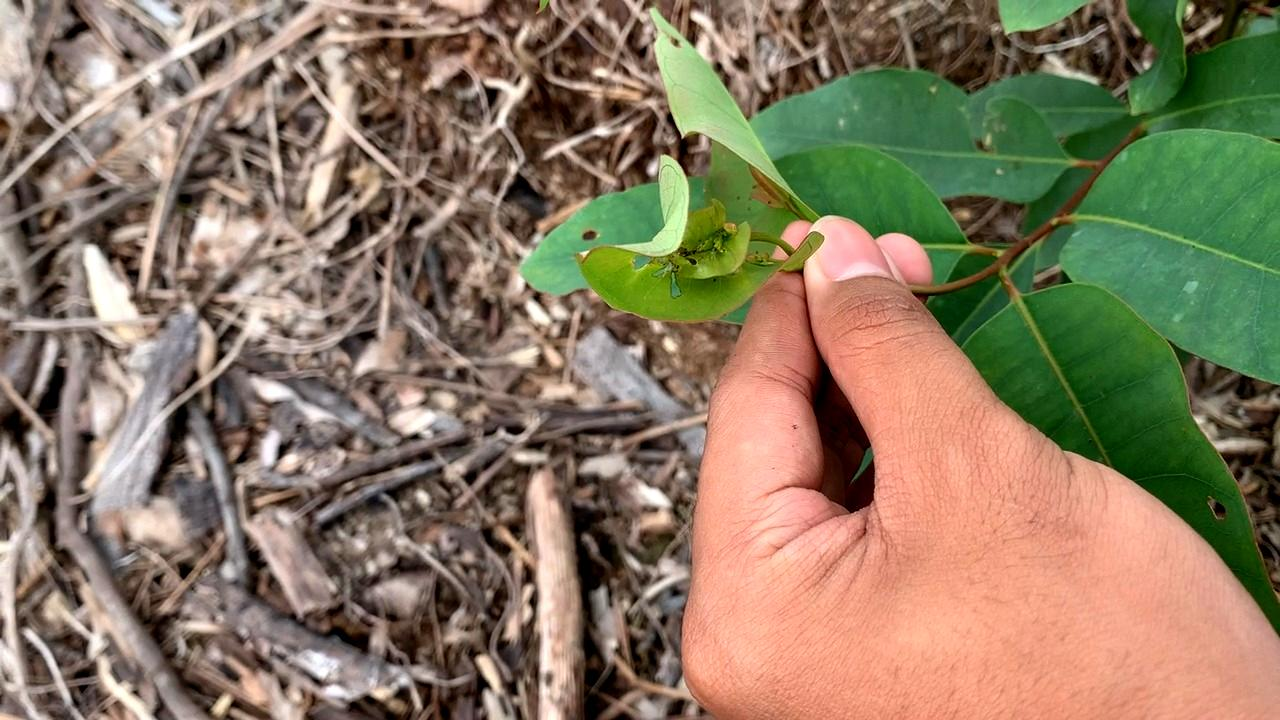Leaf Roller - Leaf: (581, 155, 820, 336)
